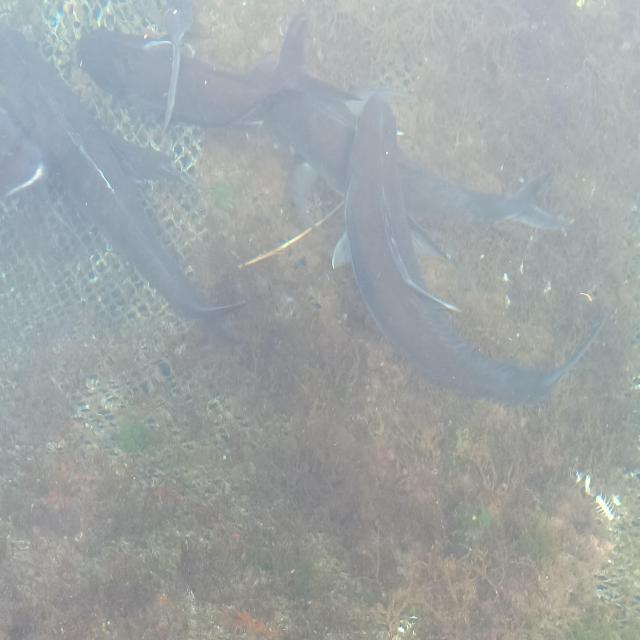ikan: (74, 9, 606, 408)
